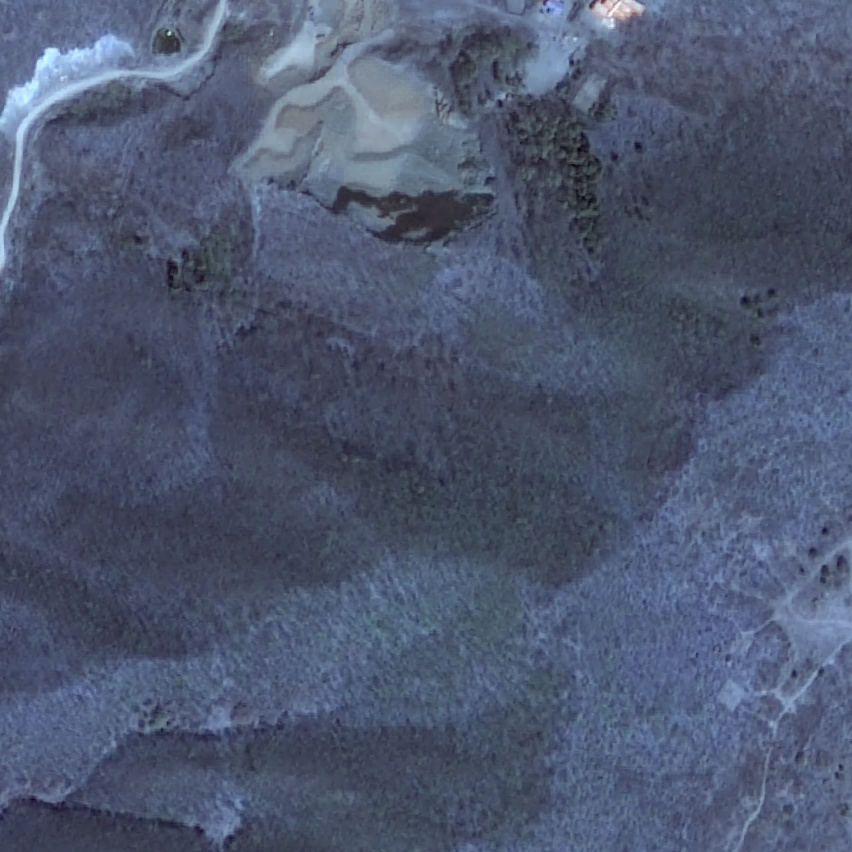slope: (231, 11, 497, 242), (0, 26, 140, 147)
